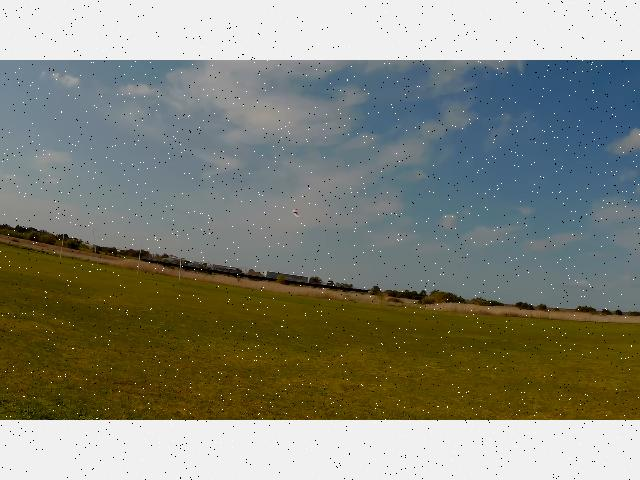Anti-Drone: (291, 208, 299, 218)
